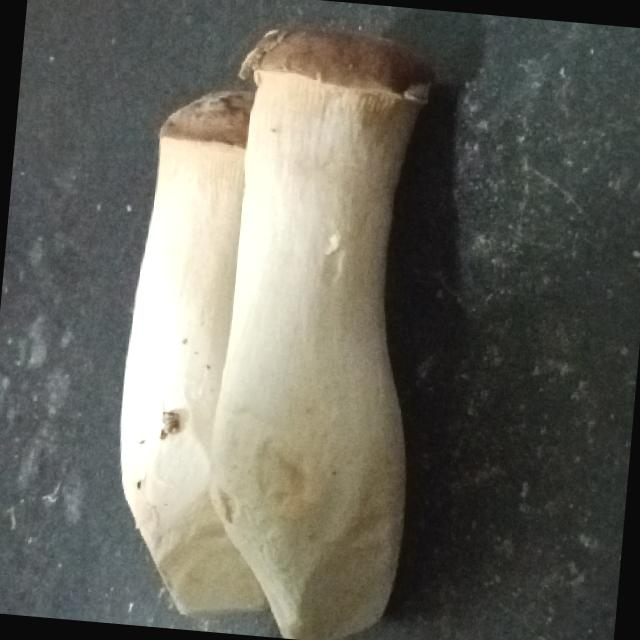Pleurotus eryngii: (102, 1, 445, 640)
